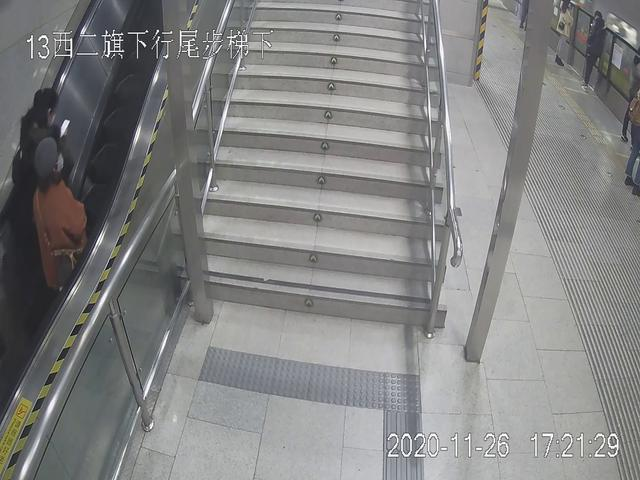person: (30, 135, 88, 290), (17, 82, 78, 207), (580, 7, 612, 88)
